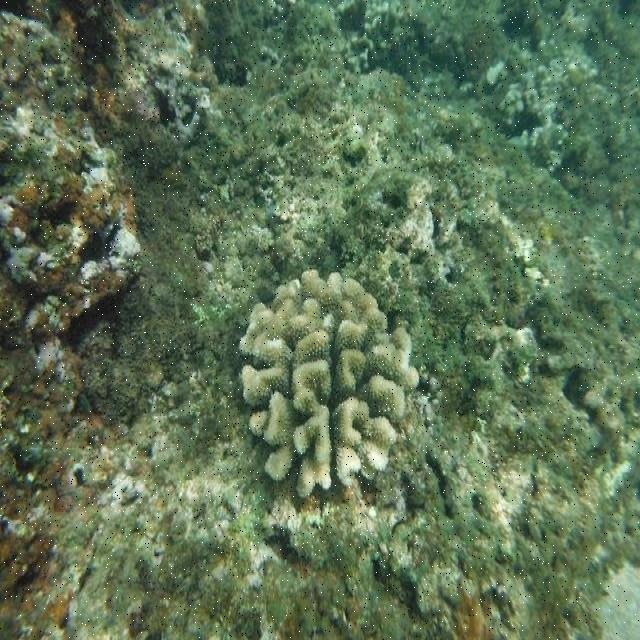reefs: (239, 268, 419, 496)
